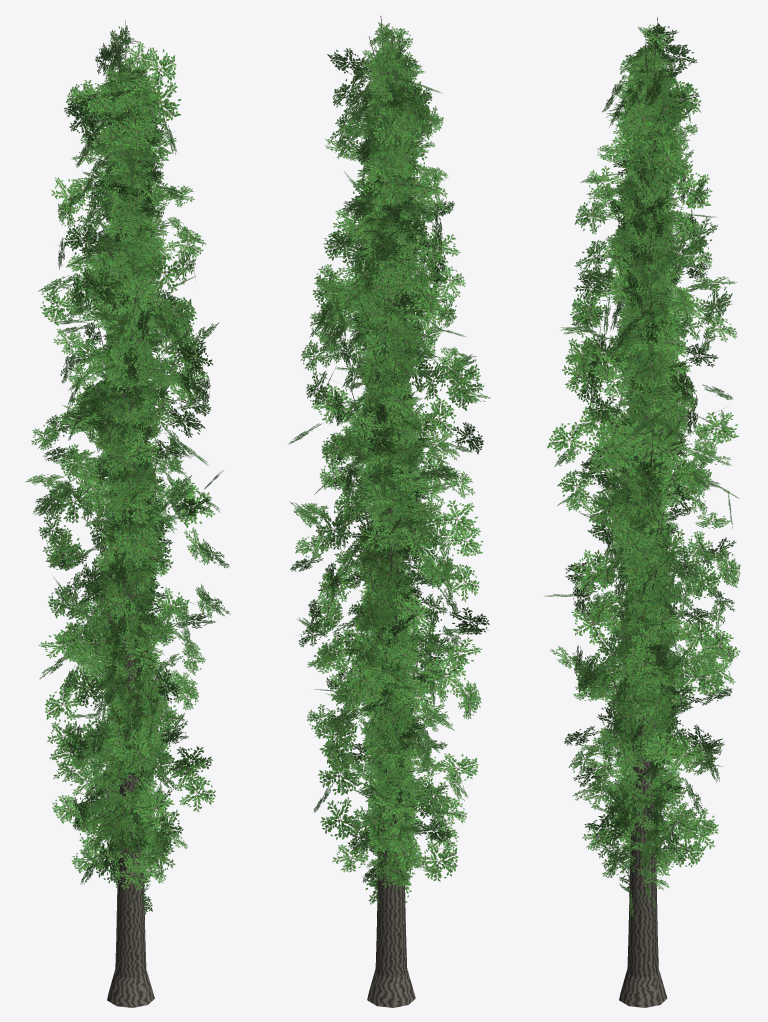
The model's file is terak_0.glb.
3 views of the same model, side by side, from view 1: azimuth 30°, elevation 25°; view 2: azimuth 150°, elevation 25°; view 3: azimuth 270°, elevation 25° (orthographic).
Parts seen in each view (by area): view 1: terak_leaves, terak_bark; view 2: terak_leaves, terak_bark; view 3: terak_leaves, terak_bark.
Boxes of the visible parts, x1=… form: terak_leaves: x1=25, y1=25, x2=230, y2=914; terak_bark: x1=98, y1=20, x2=162, y2=1007; terak_leaves: x1=288, y1=22, x2=490, y2=904; terak_bark: x1=351, y1=16, x2=421, y2=1007; terak_leaves: x1=544, y1=23, x2=740, y2=917; terak_bark: x1=605, y1=17, x2=680, y2=1007.
Bounding box in the file's own units: 4.6 × 21.98 × 4.59.
2 materials, 2 textured.
